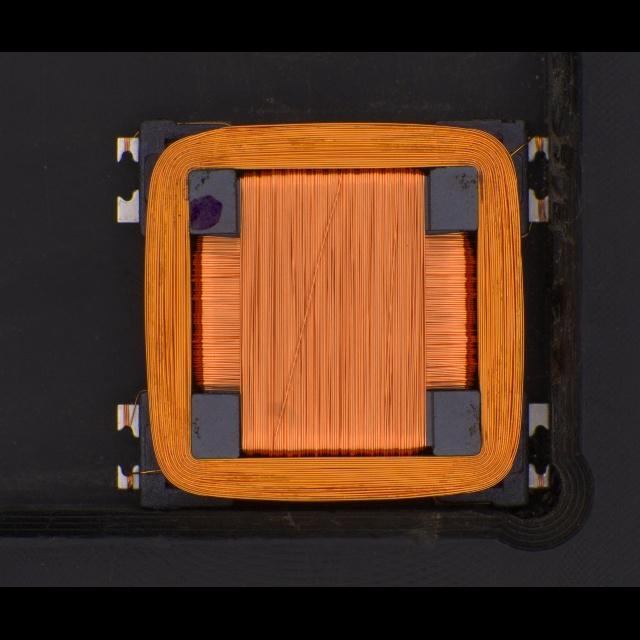Winding_Z: (135, 118, 527, 504)
